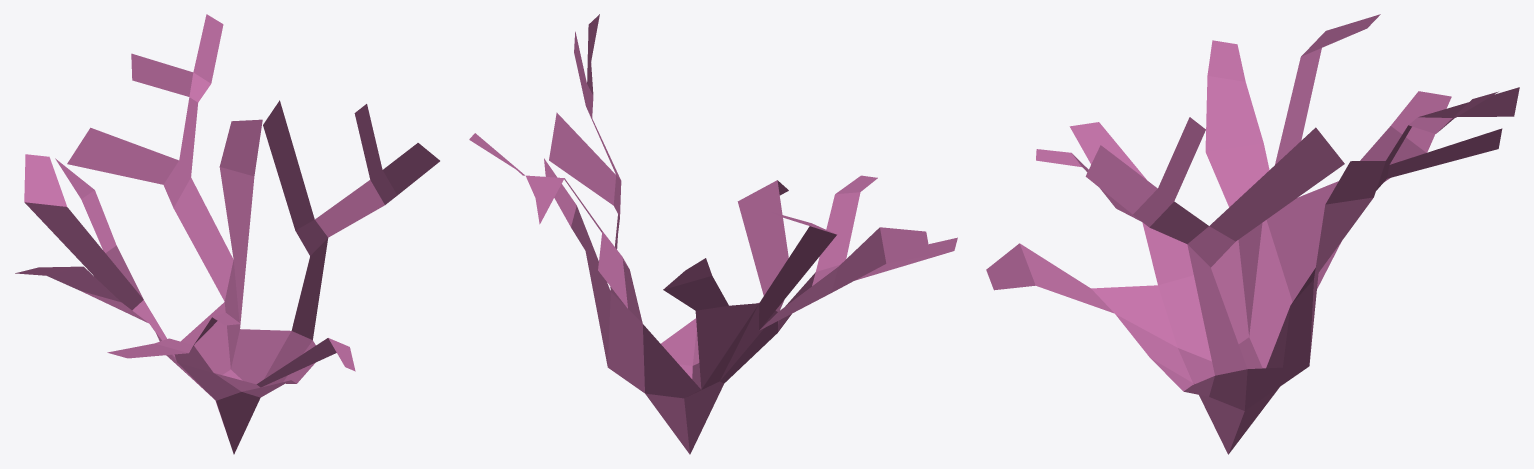
The model's file is coral_5.fbx.
3 views of the same model, side by side, from view 1: azimuth 30°, elevation 25°; view 2: azimuth 150°, elevation 25°; view 3: azimuth 270°, elevation 25° (orthographic). The views are drawn at different scales.
Parts seen in each view (by area): view 1: coral_5; view 2: coral_5; view 3: coral_5.
Part boxes in pixels (x1,y1,x2,y2): coral_5: [15, 14, 439, 454]; coral_5: [469, 14, 957, 454]; coral_5: [986, 14, 1519, 454].
Size of the model in its own units: 242 by 215 by 252.
